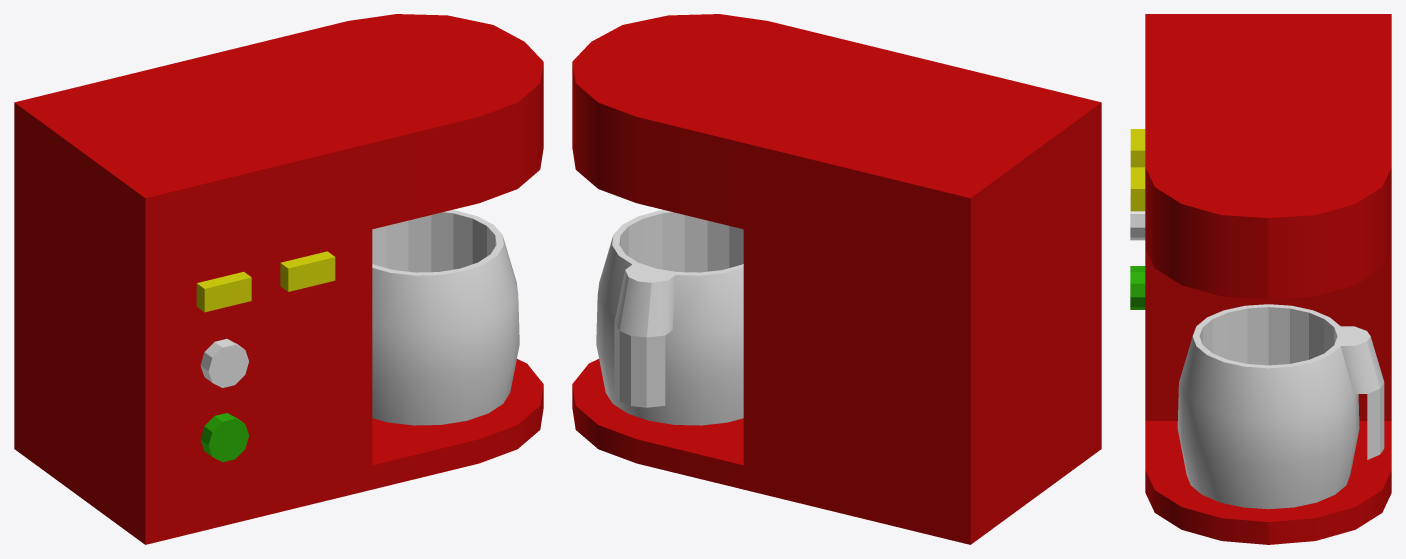
The model's file is foodprocessor.fbx.
The picture shows the model from 3 angles, left to right: view 1: azimuth 30°, elevation 25°; view 2: azimuth 150°, elevation 25°; view 3: azimuth 270°, elevation 25°; orthographic projection. The views are drawn at different scales.
Parts seen in each view (by area): view 1: foodprocessor; view 2: foodprocessor; view 3: foodprocessor.
Boxes of the visible parts, x1=… form: foodprocessor: x1=14, y1=14, x2=543, y2=544; foodprocessor: x1=572, y1=14, x2=1101, y2=544; foodprocessor: x1=1130, y1=14, x2=1391, y2=544.
Size of the model in its own units: 107 by 79.29 by 57.66.
